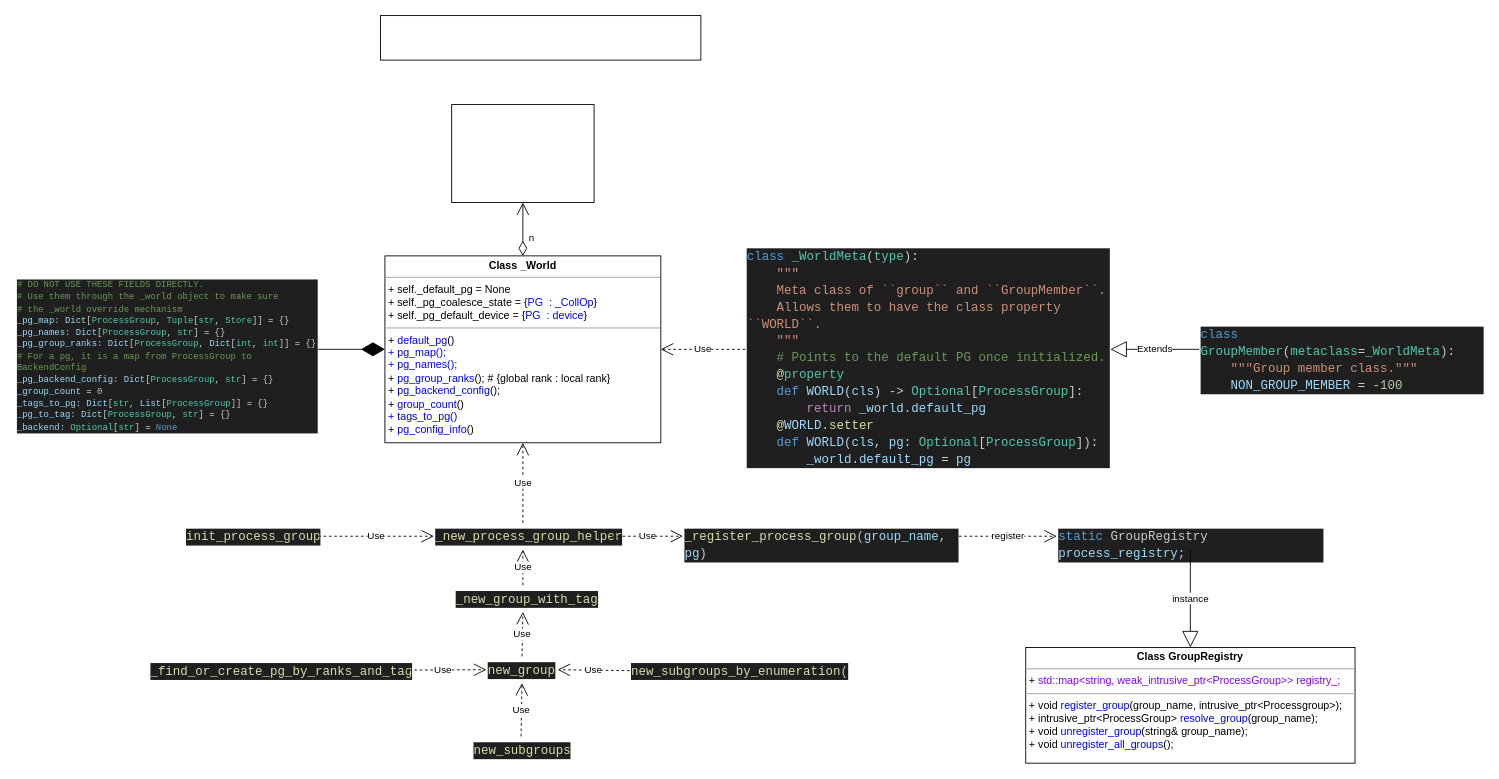
Image size: 1499x779. Some labels were removed from this diagram. Here are the shapes that lost their labels. From the top down, the centre of each, then its label:
the point at 540,37: python: distributed_c10d.py c++ bind : torch/csrc/distributed/c10d.init.cpp
the point at 522,153: Class _CollOp + self.op + self.tensor + self.dst_tensor + self.redop + self.root
